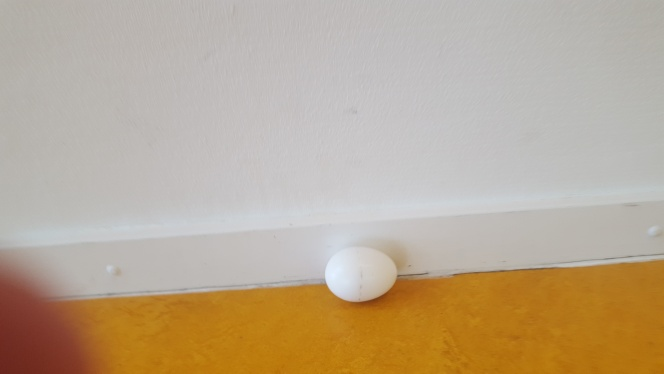egg: (320, 241, 397, 304)
